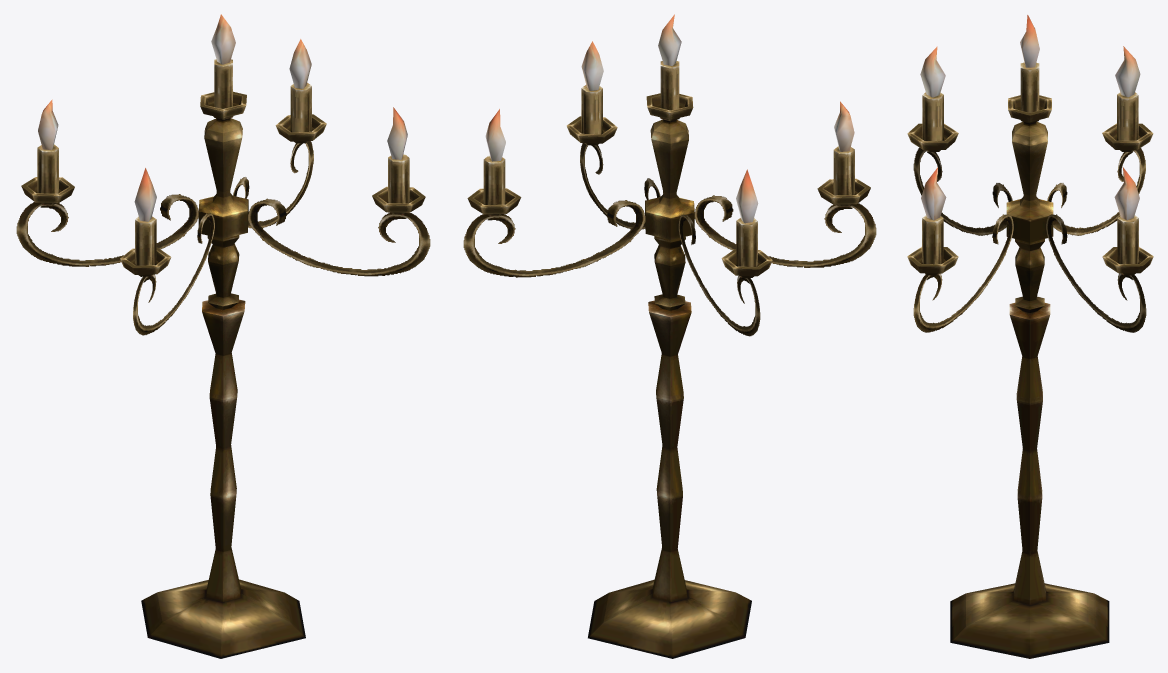
The model's file is furni_0200702.FBX.
3 views of the same model, side by side, from view 1: azimuth 30°, elevation 25°; view 2: azimuth 150°, elevation 25°; view 3: azimuth 270°, elevation 25° (orthographic).
Visible parts, largest first — view 1: furni_0200702; view 2: furni_0200702; view 3: furni_0200702.
Part boxes in pixels (x1,y1,x2,y2): furni_0200702: (16,14,430,658); furni_0200702: (463,14,876,658); furni_0200702: (907,15,1153,658).
Bounding box in the file's own units: 96.51 × 186 × 68.66.
Materials: 1 (1 with a texture image).
